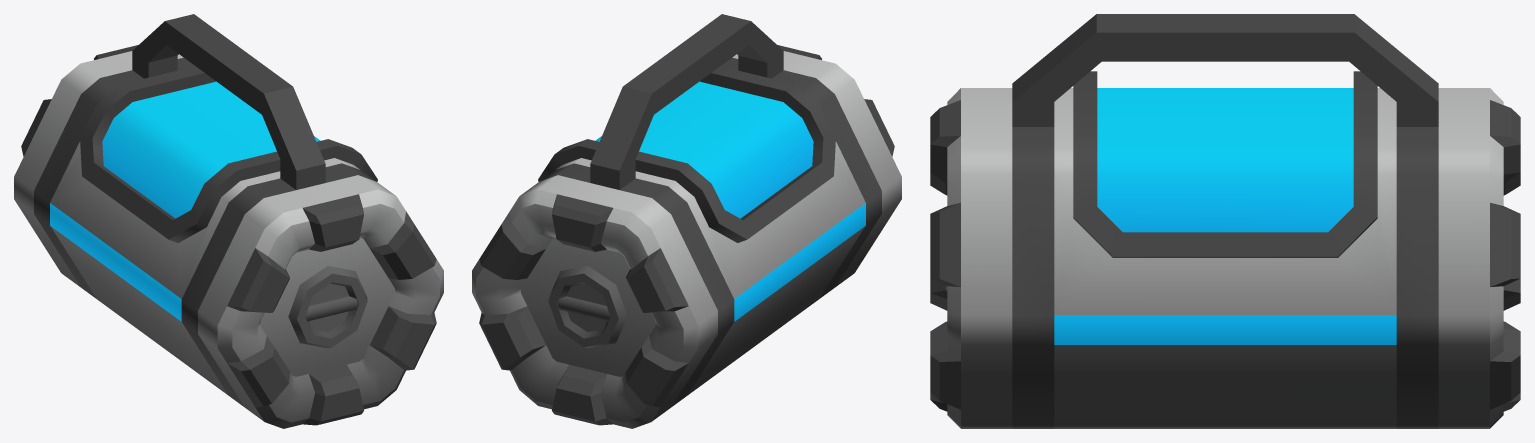
File: Gas_can_011.glb
The picture shows the model from 3 angles, left to right: view 1: azimuth 30°, elevation 25°; view 2: azimuth 150°, elevation 25°; view 3: azimuth 270°, elevation 25°; orthographic projection. The views are drawn at different scales.
Parts seen in each view (by area): view 1: Gas_can_011; view 2: Gas_can_011; view 3: Gas_can_011.
Boxes of the visible parts, box(x1,y1,x2,y2) form: Gas_can_011: box(14, 14, 443, 428); Gas_can_011: box(472, 14, 901, 428); Gas_can_011: box(930, 14, 1520, 428).
Bounding box in the file's own units: 0.369 × 0.4507 × 0.6414.
Materials: 2 (2 with a texture image).
